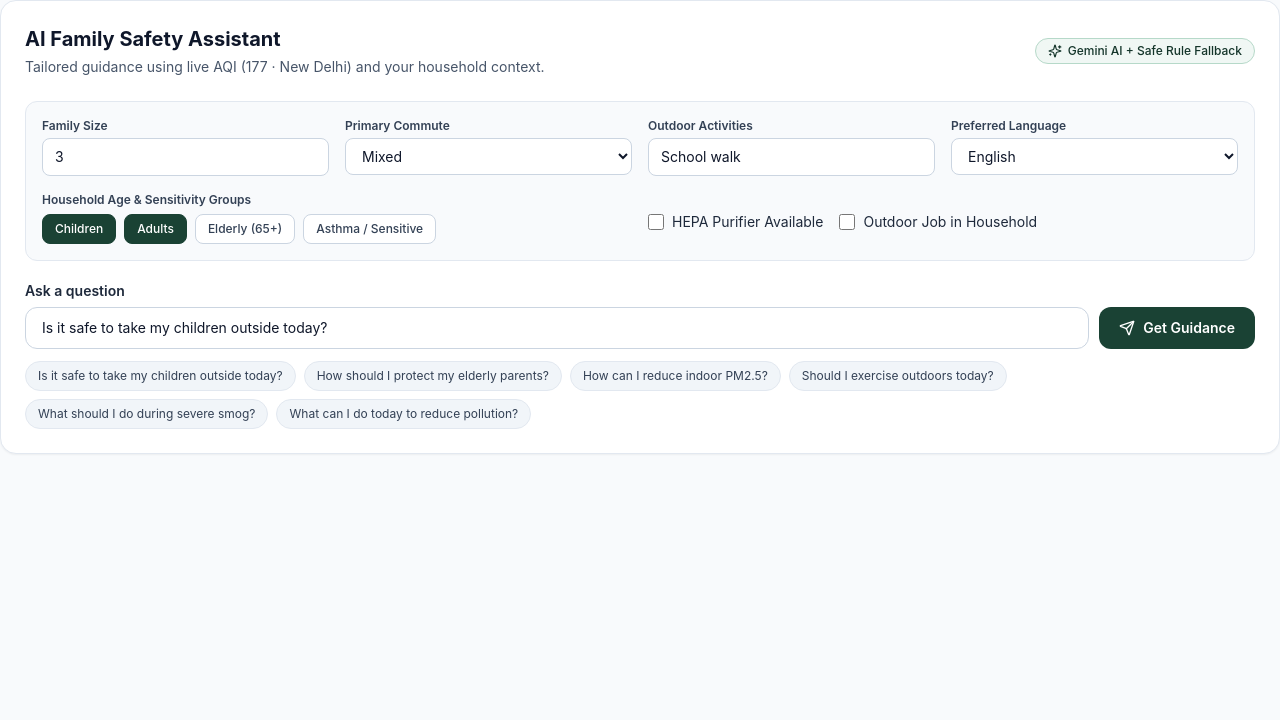
Test: AssistantView › submits question and renders structured 7-part guidance
This screenshot has width=1280, height=720.
Click the button "Get Guidance": x=1177, y=328 x1=1099 y1=307 x2=1255 y2=349
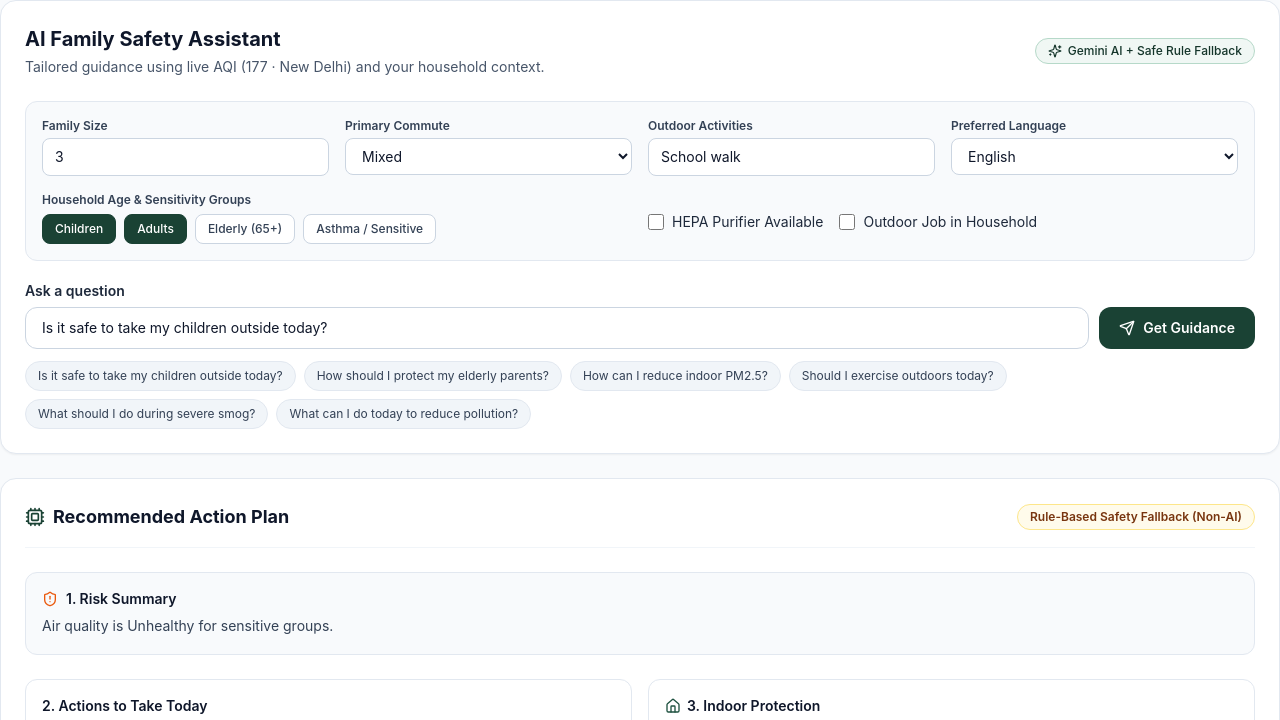
Expected: the heading "Recommended Action Plan" is shown, x1=53 y1=503 x2=289 y2=531
Expected: the text "1. Risk Summary" is shown, x1=66 y1=589 x2=177 y2=609
Expected: the text "Rule-Based Safety Fallback (Non-AI)" is shown, x1=1017 y1=504 x2=1255 y2=530
